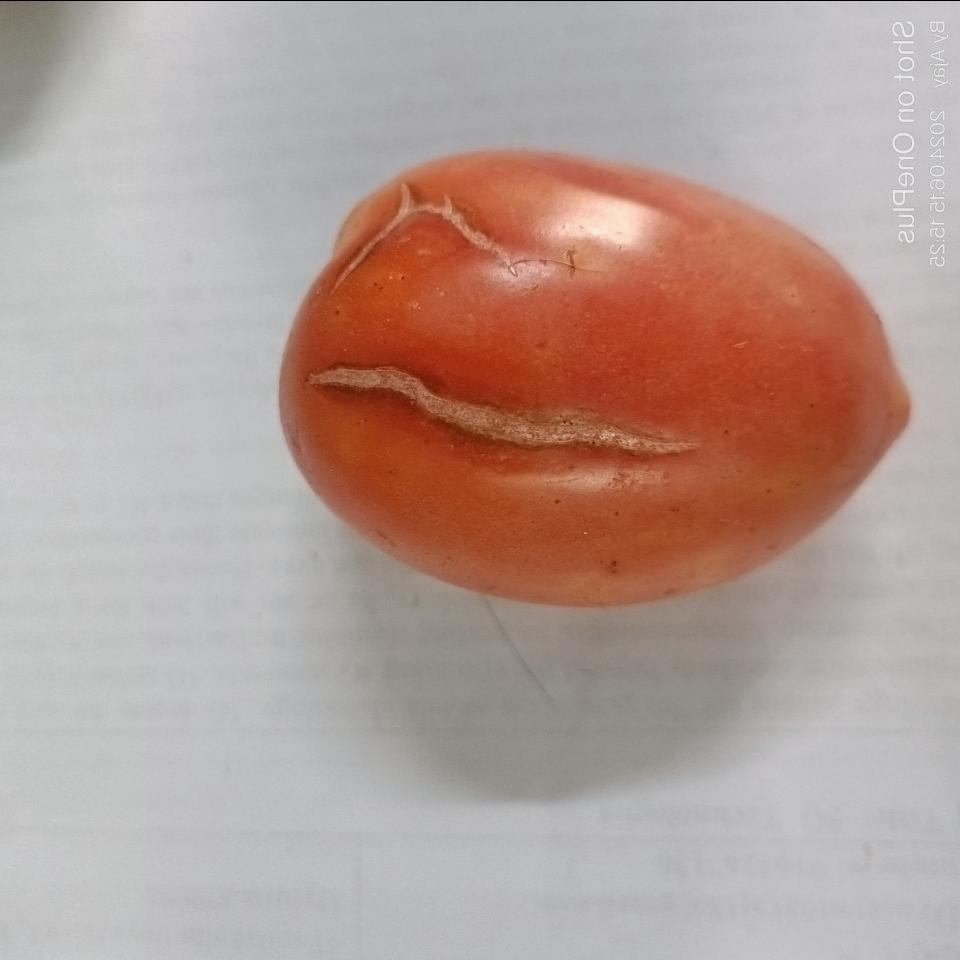Cracking: (273, 359, 681, 492)
